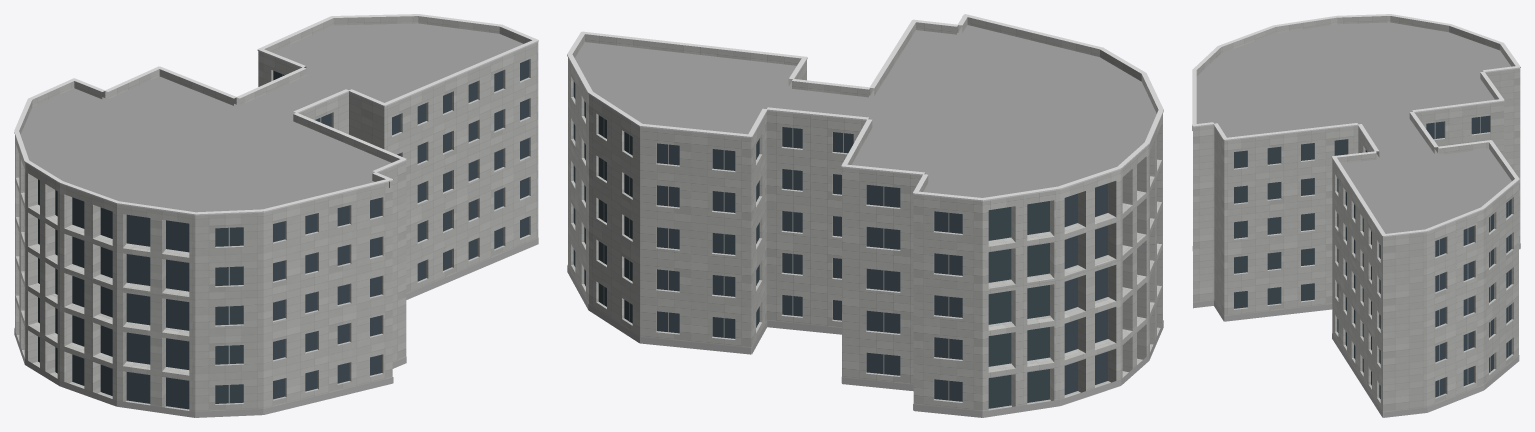
The picture shows the model from 3 angles, left to right: view 1: azimuth 30°, elevation 25°; view 2: azimuth 150°, elevation 25°; view 3: azimuth 270°, elevation 25°; orthographic projection. The views are drawn at different scales.
Parts seen in each view (by area): view 1: globalHouse__wall, globalHouse__roof, globalHouse__glass, globalHouse__parapet, globalHouse__trim, globalHouse__base; view 2: globalHouse__wall, globalHouse__roof, globalHouse__glass, globalHouse__parapet, globalHouse__trim, globalHouse__base, globalHouse__frame; view 3: globalHouse__wall, globalHouse__roof, globalHouse__glass, globalHouse__parapet, globalHouse__trim, globalHouse__base, globalHouse__frame.
Boxes of the visible parts, x1,y1,x2,y2 form: globalHouse__wall: (15, 48, 538, 417); globalHouse__roof: (20, 23, 522, 212); globalHouse__glass: (38, 59, 528, 409); globalHouse__parapet: (15, 16, 538, 221); globalHouse__trim: (14, 14, 538, 215); globalHouse__base: (14, 238, 538, 417); globalHouse__wall: (568, 63, 1162, 417); globalHouse__roof: (575, 25, 1156, 197); globalHouse__glass: (573, 81, 1107, 408); globalHouse__parapet: (568, 17, 1162, 207); globalHouse__trim: (567, 14, 1163, 201); globalHouse__base: (567, 265, 1163, 417); globalHouse__frame: (603, 118, 949, 400); globalHouse__wall: (1193, 73, 1520, 417); globalHouse__roof: (1196, 22, 1511, 233); globalHouse__glass: (1234, 115, 1511, 398); globalHouse__parapet: (1192, 16, 1520, 242); globalHouse__trim: (1192, 14, 1520, 237); globalHouse__base: (1192, 243, 1520, 417); globalHouse__frame: (1434, 117, 1508, 395).
Bounding box in the file's own units: 43.47 × 16.6 × 27.19.
Materials: 7 (2 with a texture image).
